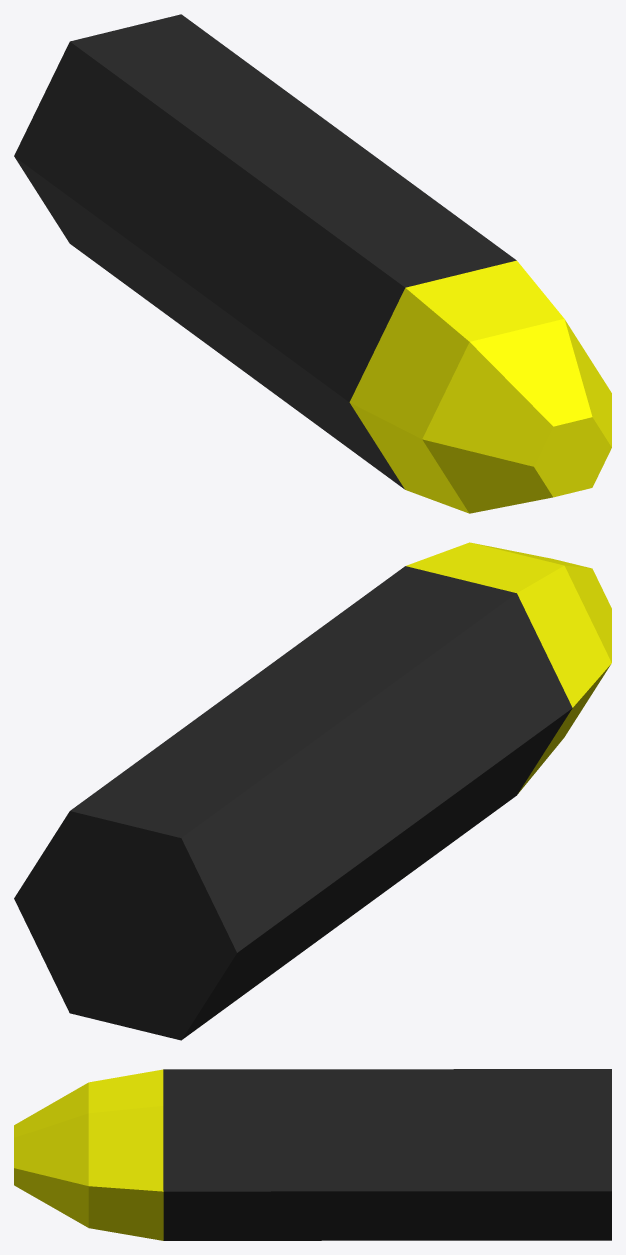
Rendered from bullet.fbx.
The picture shows the model from 3 angles, top to bottom: view 1: azimuth 30°, elevation 25°; view 2: azimuth 150°, elevation 25°; view 3: azimuth 270°, elevation 25°; orthographic projection. The views are drawn at different scales.
Visible parts, largest first — view 1: 40mm Grenade; view 2: 40mm Grenade; view 3: 40mm Grenade.
Part boxes in pixels (left/top/right/bottom): 40mm Grenade: left=14, top=14, right=611, bottom=513; 40mm Grenade: left=14, top=542, right=611, bottom=1040; 40mm Grenade: left=14, top=1069, right=611, bottom=1240.
Size of the model in its own units: 50.4 by 43.79 by 175.
